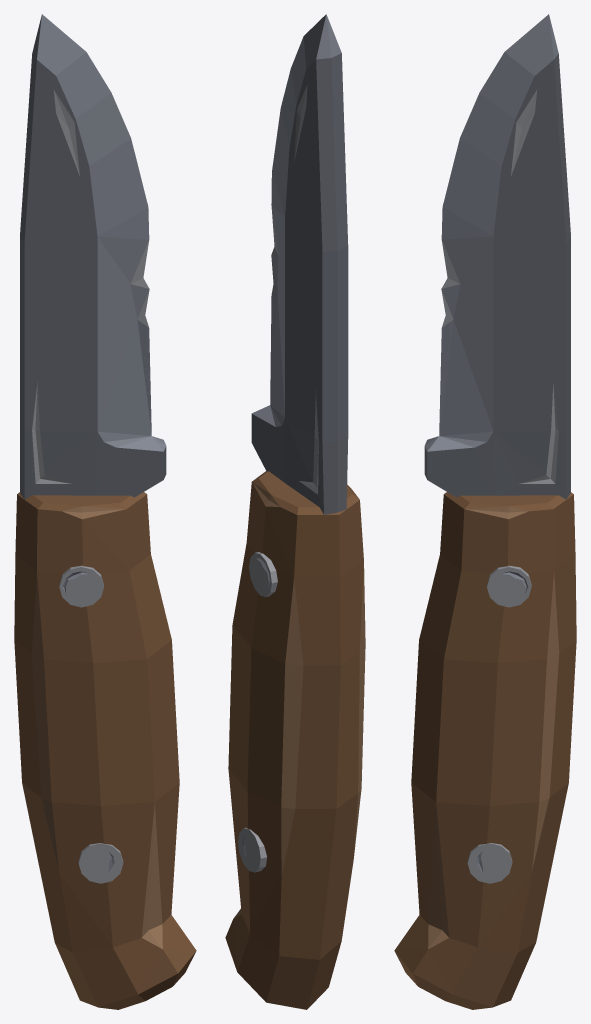
Rendered from mesh_knife.fbx.
3 renders of one model, left to right at view 1: azimuth 90°, elevation 25°; view 2: azimuth 210°, elevation 25°; view 3: azimuth 270°, elevation 25°, orthographic. The views are drawn at different scales.
Parts seen in each view (by area): view 1: mesh_knife; view 2: mesh_knife; view 3: mesh_knife.
Part boxes in pixels (box(x1,y1,x2,y2)): mesh_knife: box(14, 14, 196, 1009); mesh_knife: box(225, 14, 365, 1009); mesh_knife: box(394, 14, 576, 1009).
Size of the model in its own units: 0.0507 by 0.505 by 0.0841.
